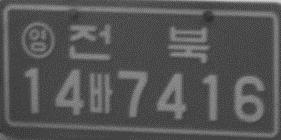1: (17, 66, 49, 115), (198, 72, 226, 122)
4: (53, 67, 84, 115), (156, 71, 186, 120)
6: (232, 75, 266, 123)
7: (117, 69, 147, 116)
바: (88, 71, 113, 115)
영: (20, 21, 55, 59)
전북_D: (67, 22, 209, 63)
